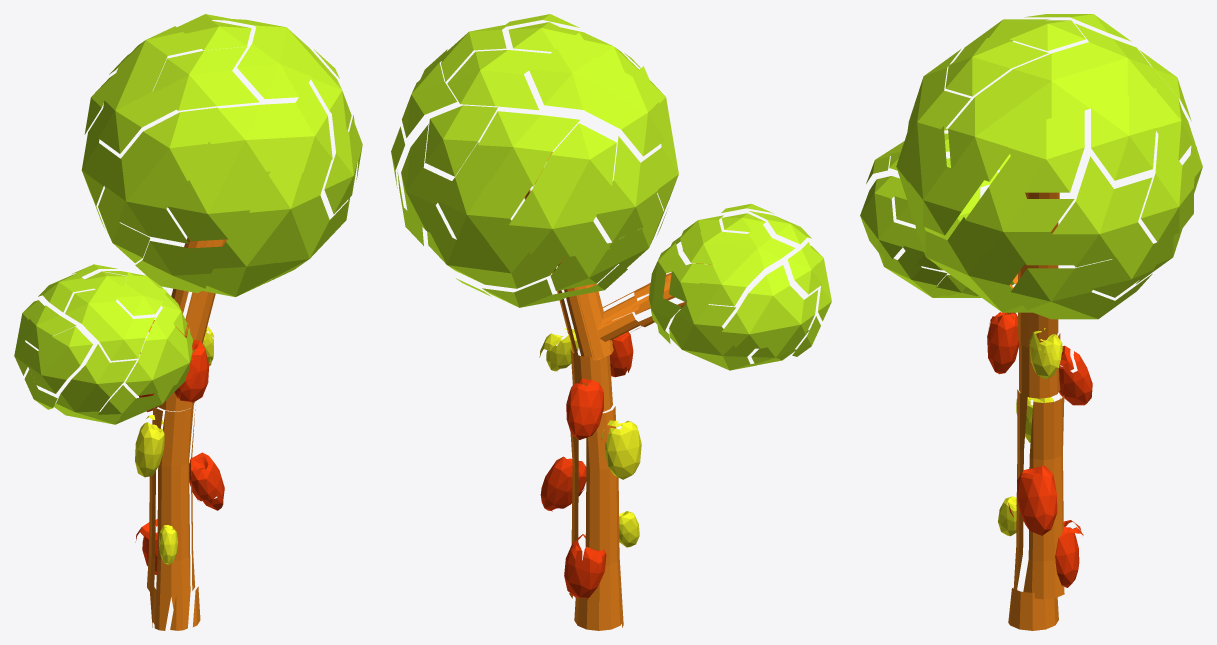
Rendered from cacaotree-explosion.gltf.
3 renders of one model, left to right at view 1: azimuth 30°, elevation 25°; view 2: azimuth 150°, elevation 25°; view 3: azimuth 270°, elevation 25°, orthographic. The views are drawn at different scales.
Visible parts, largest first — view 1: Icosphere.006, Icosphere.084, Icosphere.043, Icosphere.065, Icosphere.037, Icosphere.033, Icosphere.091, Icosphere.035, Icosphere.036, Icosphere.062, Icosphere.057, Icosphere.070 (+25 smaller); view 2: Icosphere.054, Icosphere.037, Icosphere.073, Icosphere.025, Icosphere.087, Icosphere.041, Icosphere.032, Icosphere.079, Icosphere.061, Icosphere.048, Icosphere.058, Icosphere.089 (+29 smaller); view 3: Icosphere.014, Icosphere.083, Icosphere.097, Icosphere.043, Icosphere.064, Icosphere.099, Icosphere.103, Icosphere.077, Icosphere.076, Icosphere.047, Icosphere.057, Icosphere.084 (+21 smaller).
Part boxes in pixels (x1,y1,x2,y2): Icosphere.006: (104,107,218,243); Icosphere.084: (207,83,332,175); Icosphere.043: (248,160,350,282); Icosphere.065: (154,404,193,630); Icosphere.037: (98,26,204,153); Icosphere.033: (167,141,270,241); Icosphere.091: (153,46,259,110); Icosphere.035: (65,287,155,360); Icosphere.036: (202,213,277,296); Icosphere.062: (125,308,192,395); Icosphere.057: (237,25,311,99); Icosphere.070: (54,344,136,419); Icosphere.054: (509,123,616,256); Icosphere.037: (529,32,665,156); Icosphere.073: (478,111,579,186); Icosphere.025: (722,265,817,348); Icosphere.087: (438,142,531,244); Icosphere.041: (583,406,622,627); Icosphere.032: (427,219,564,288); Icosphere.079: (447,50,549,110); Icosphere.061: (596,136,662,242); Icosphere.048: (669,285,766,370); Icosphere.058: (699,224,795,306); Icosphere.089: (425,105,497,176); Icosphere.014: (948,42,1127,181); Icosphere.083: (965,156,1074,265); Icosphere.097: (1052,156,1152,267); Icosphere.043: (896,133,1032,312); Icosphere.064: (1023,395,1064,599); Icosphere.099: (1091,88,1156,180); Icosphere.103: (1008,107,1084,192); Icosphere.077: (1011,259,1152,319); Icosphere.076: (908,126,984,235); Icosphere.047: (1141,132,1196,241); Icosphere.057: (945,38,1048,96); Icosphere.084: (905,49,970,160).
Bounding box in the file's own units: 4.83 × 7.5 × 3.73.
